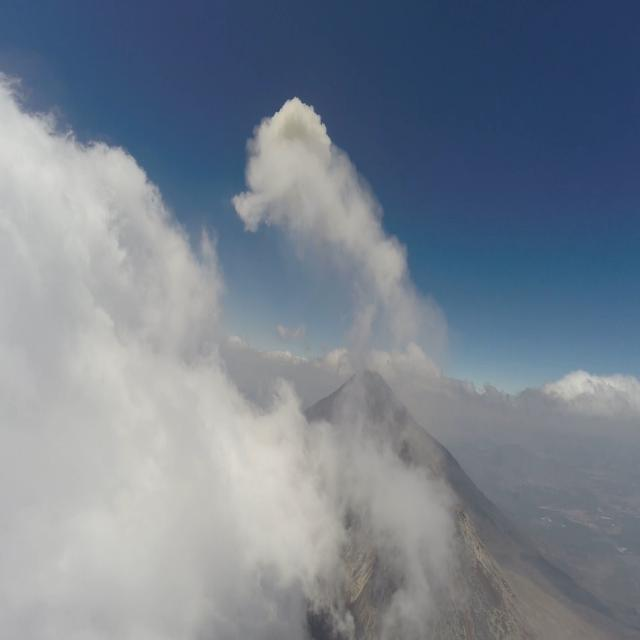Plume: (229, 92, 427, 340)
